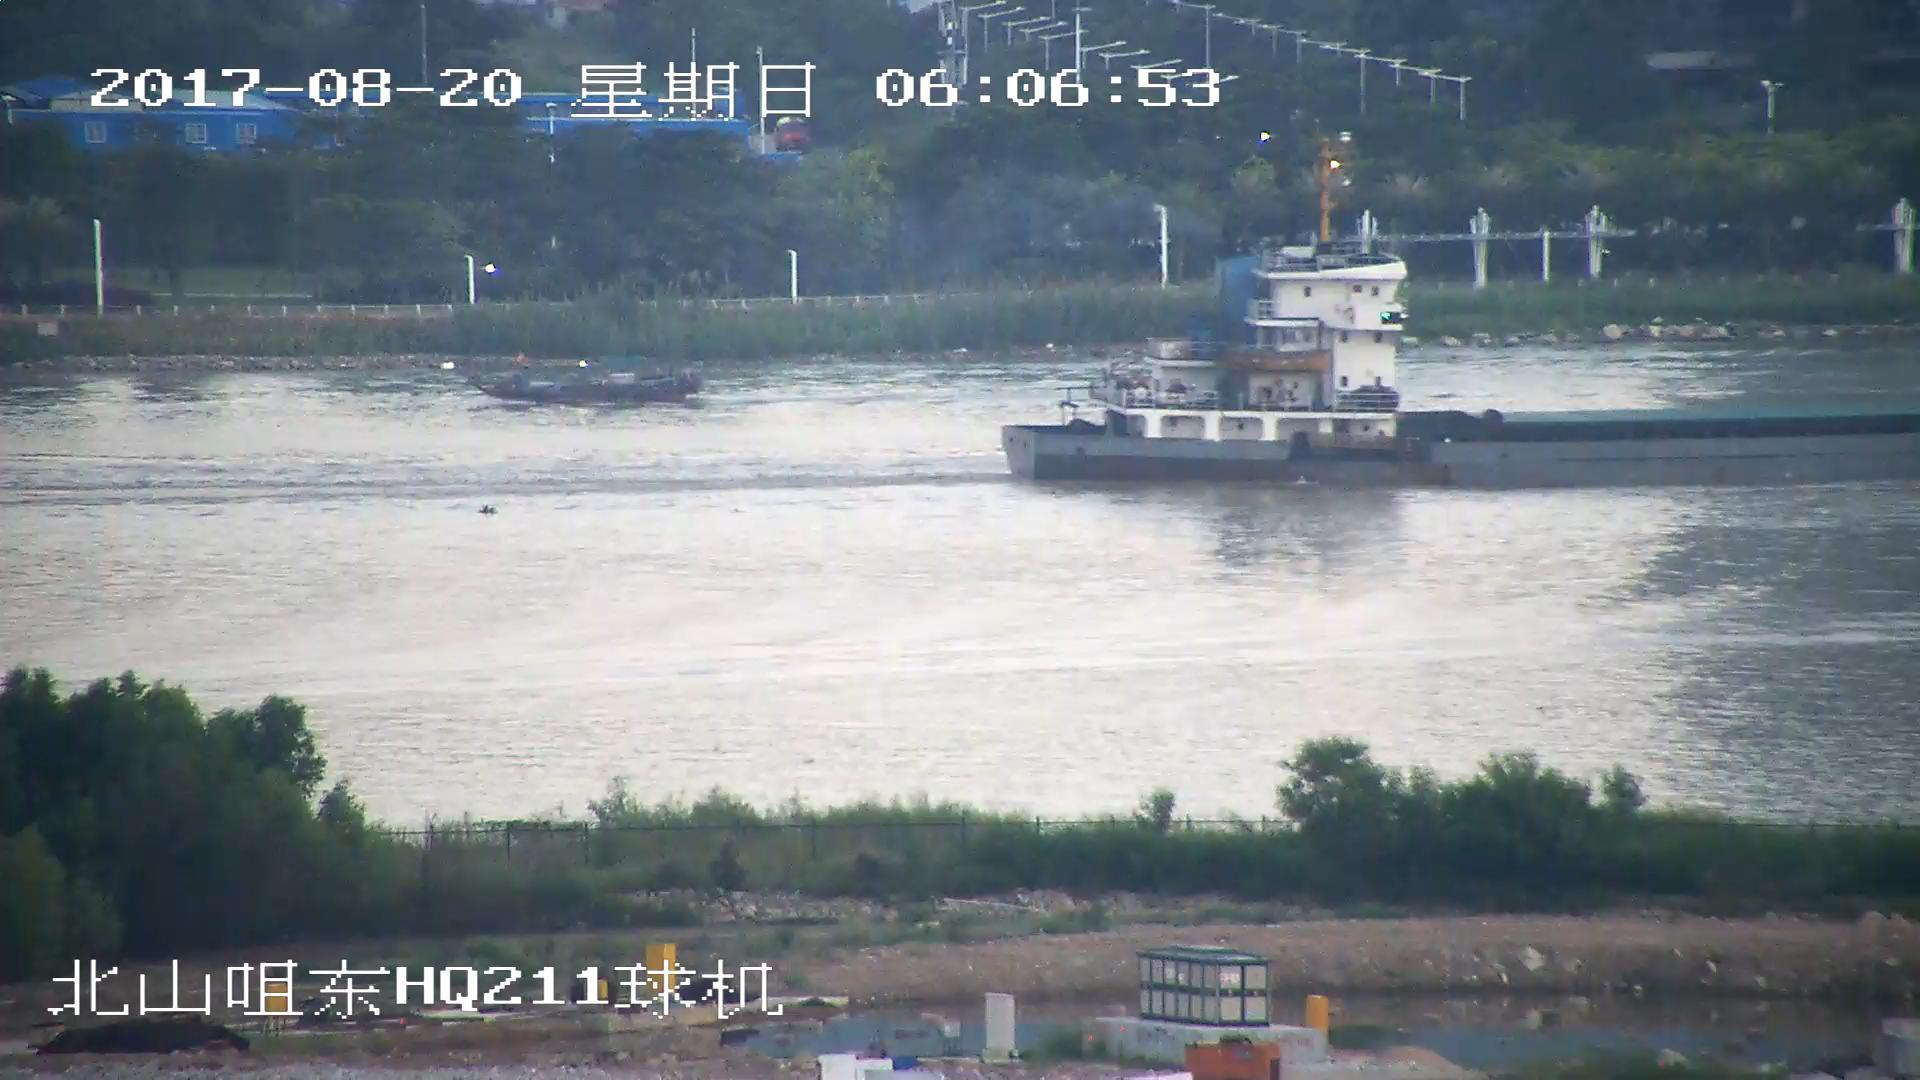Ship: (1007, 223, 1920, 495), (480, 371, 705, 404)
